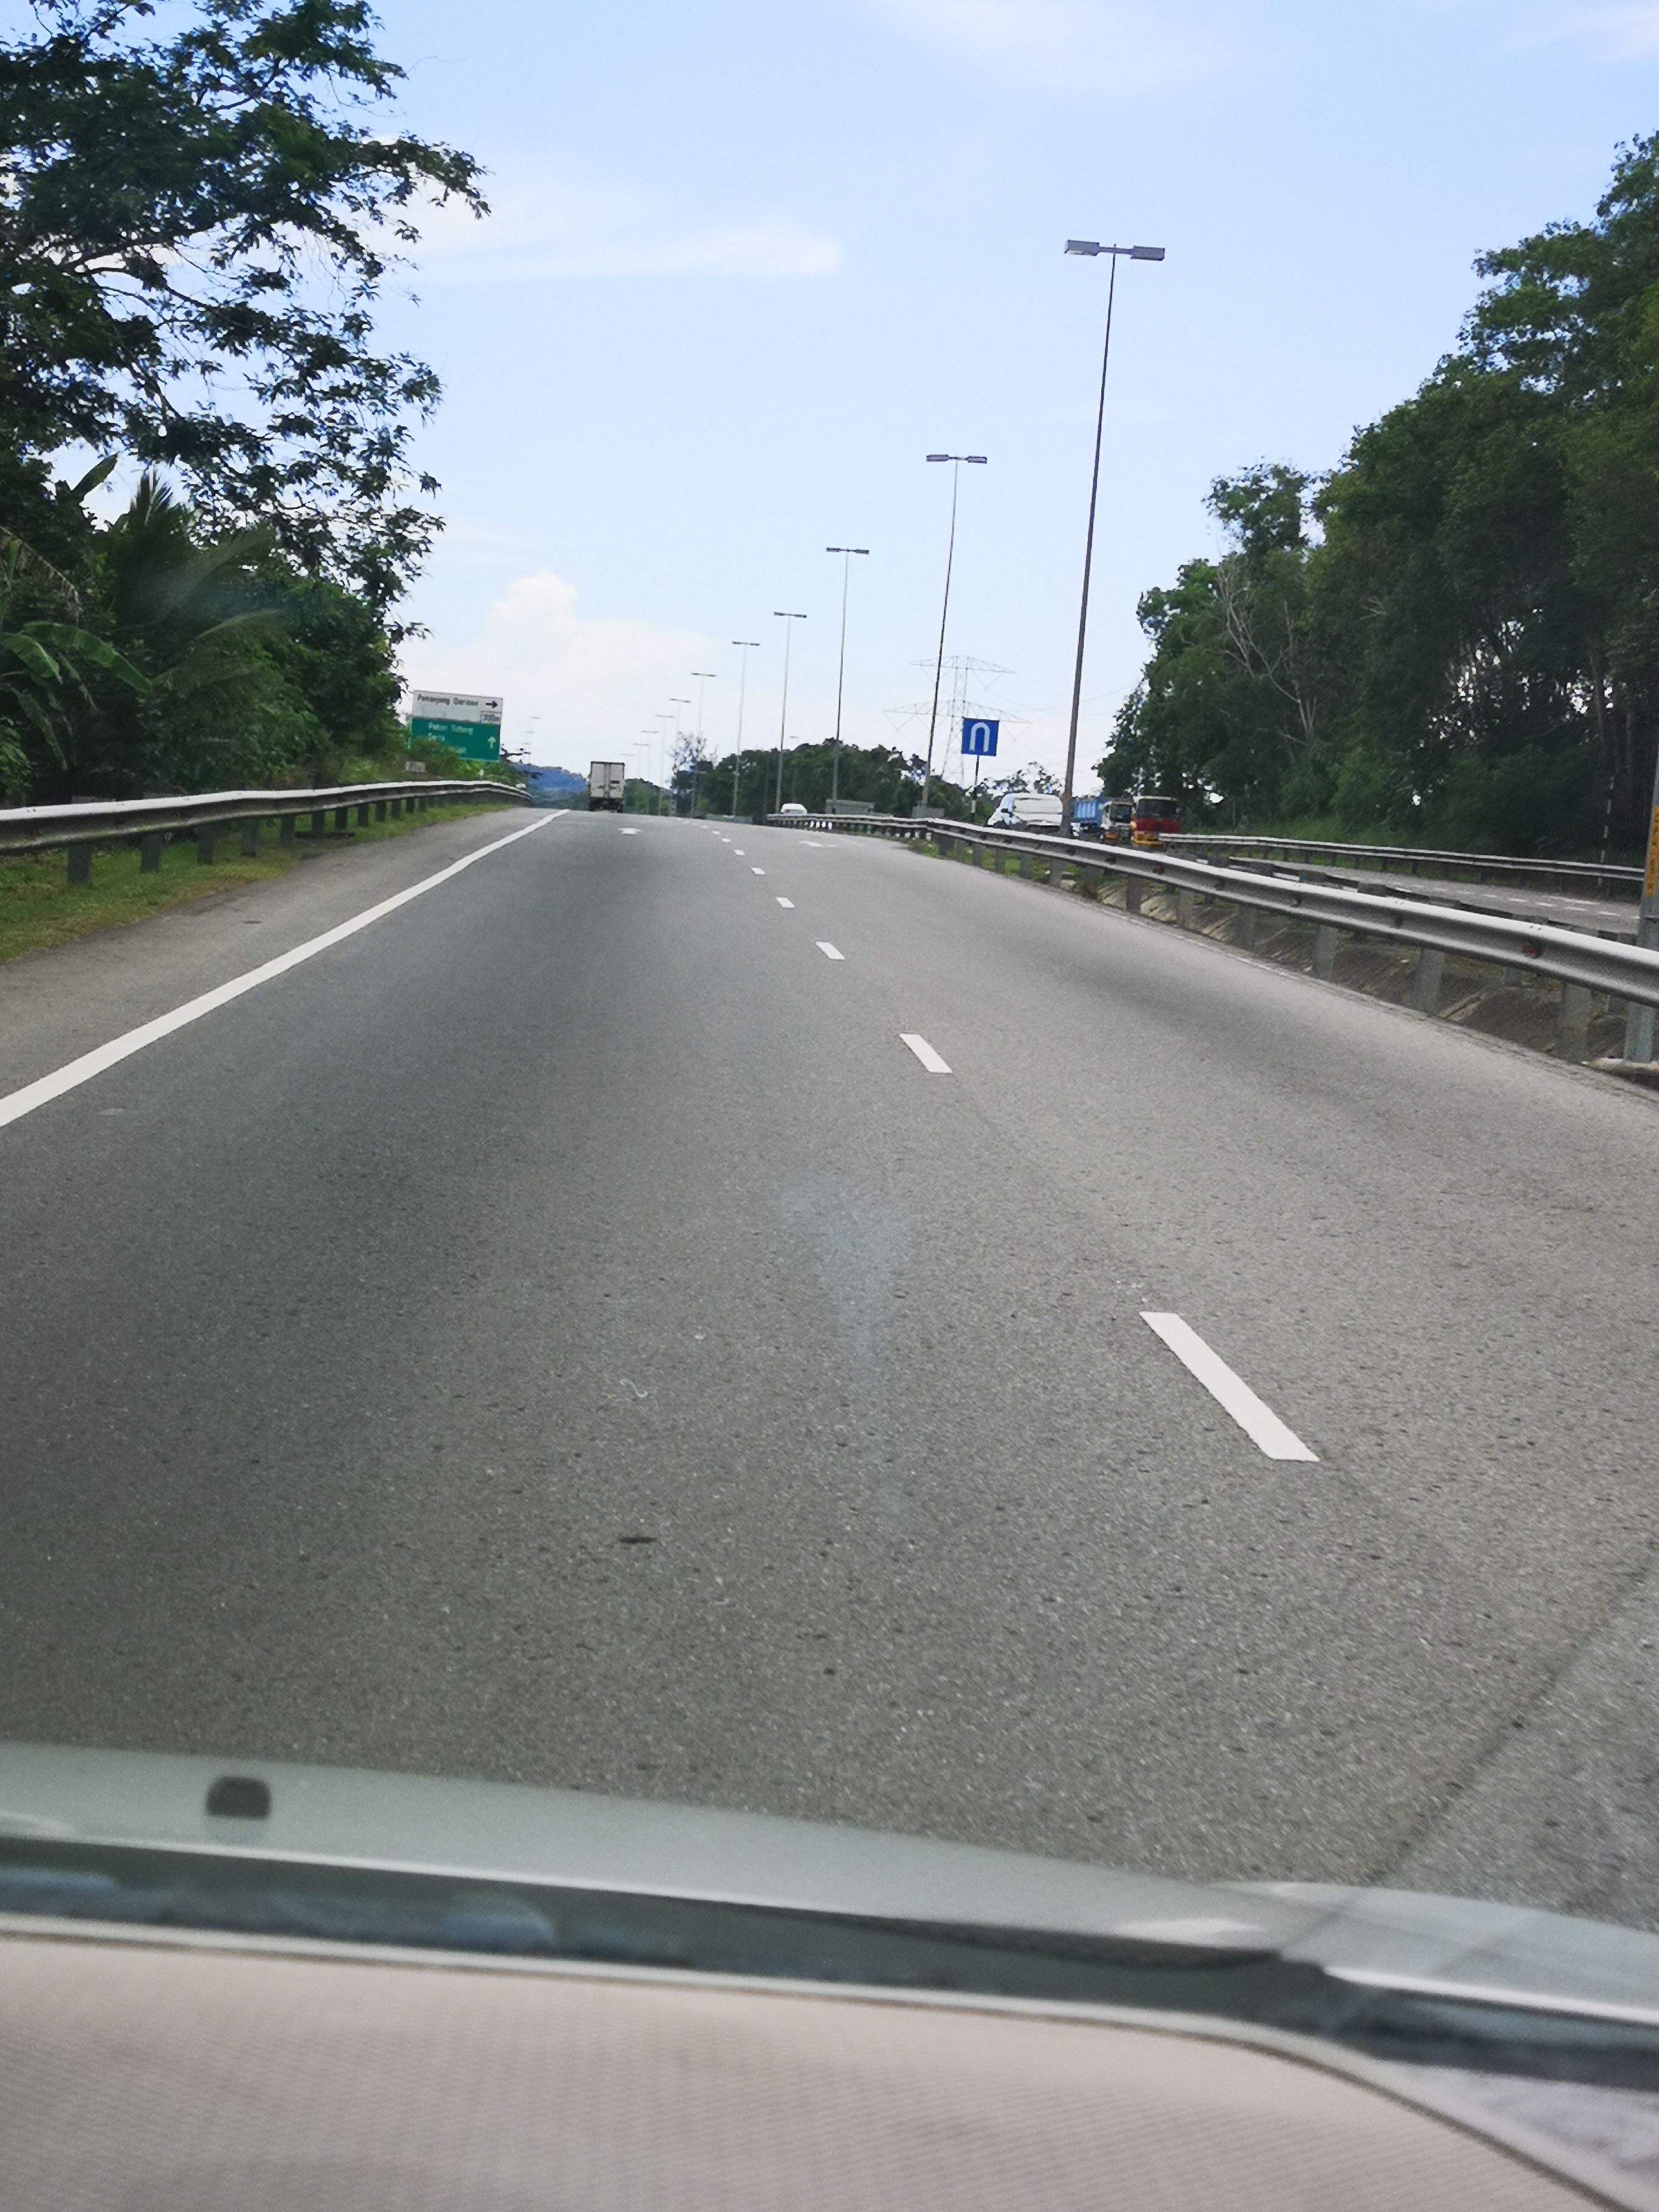U-turn: (955, 711, 1006, 761)
